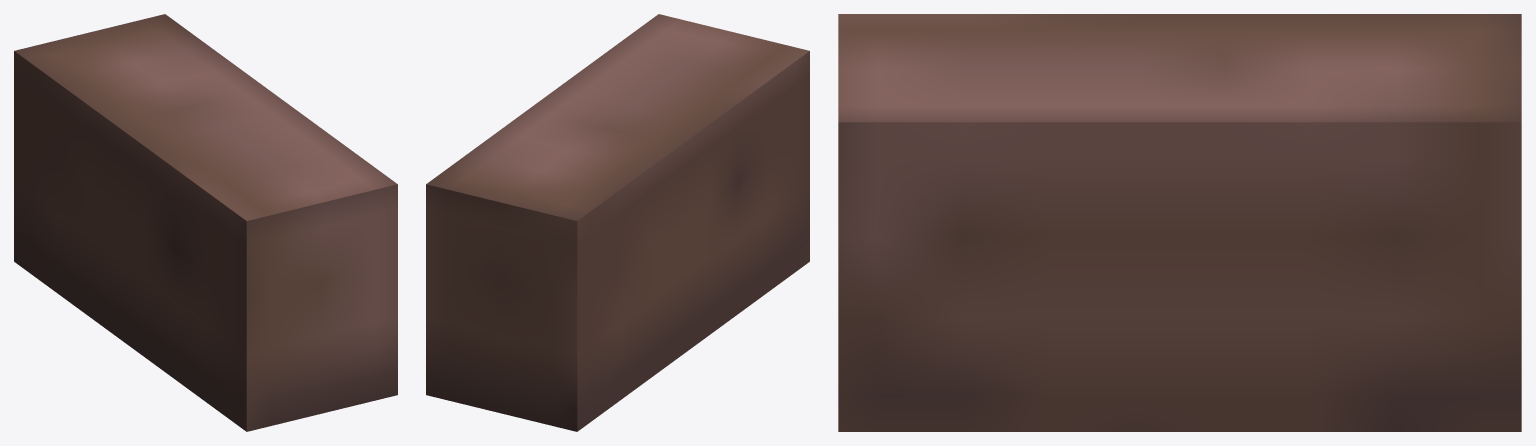
Rendered from cap_stone_right_red.fbx.
The picture shows the model from 3 angles, left to right: view 1: azimuth 30°, elevation 25°; view 2: azimuth 150°, elevation 25°; view 3: azimuth 270°, elevation 25°; orthographic projection. The views are drawn at different scales.
Parts seen in each view (by area): view 1: cap_stone_right_red; view 2: cap_stone_right_red; view 3: cap_stone_right_red.
Boxes of the visible parts, left/top/right/bottom form: cap_stone_right_red: left=14, top=14, right=397, bottom=431; cap_stone_right_red: left=426, top=14, right=809, bottom=431; cap_stone_right_red: left=838, top=14, right=1521, bottom=431.
Size of the model in its own units: 3 by 4 by 8.
